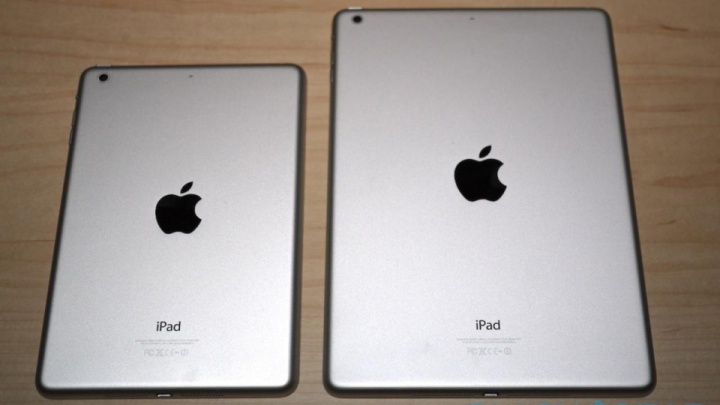apple: (445, 135, 514, 222), (147, 170, 212, 239)
